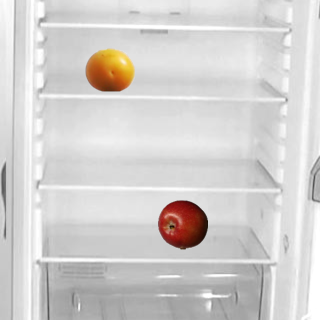Apple Braeburn: (157, 199, 207, 249)
Cherry Wax Yellow: (84, 44, 134, 94)
